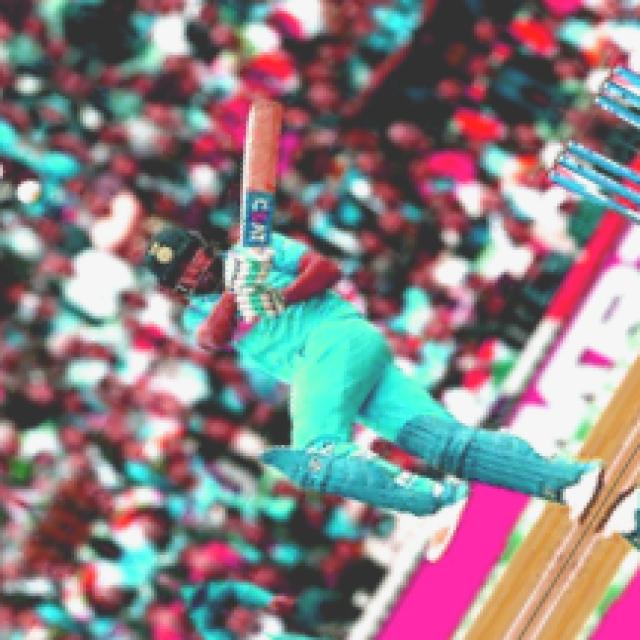toe: (241, 91, 294, 132)
